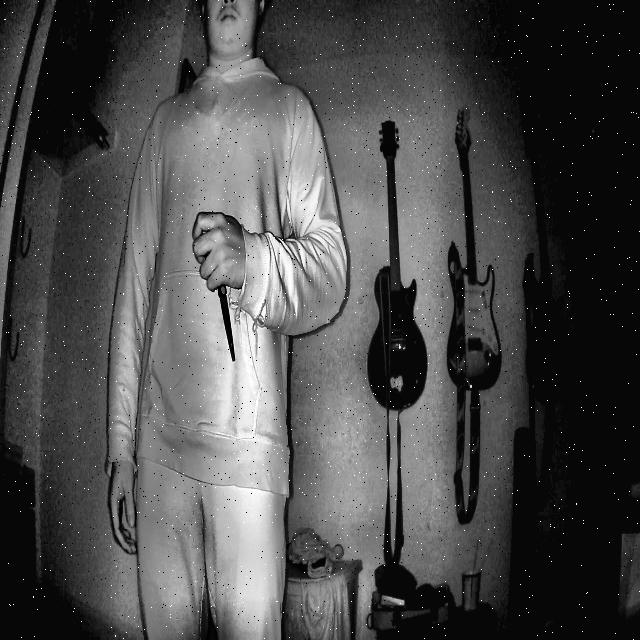scissors: (193, 196, 246, 369)
